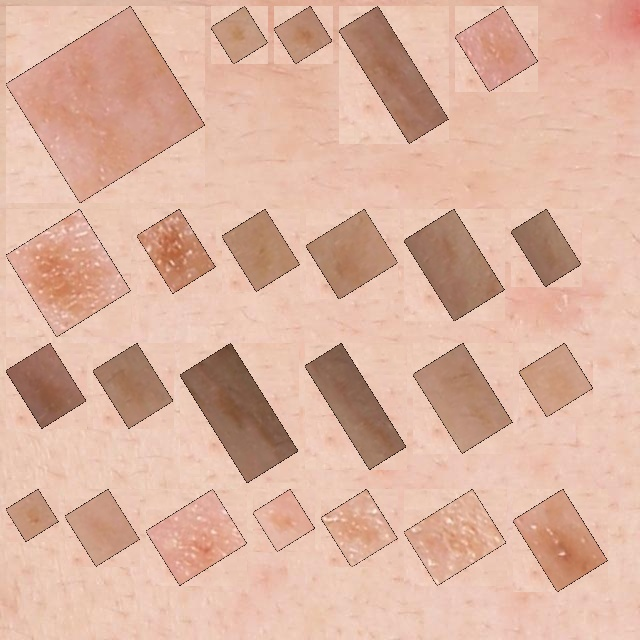melasma: (17, 17, 194, 192), (191, 354, 287, 471), (17, 220, 120, 325), (350, 17, 437, 132), (316, 354, 395, 458), (415, 220, 493, 310), (424, 354, 501, 442), (415, 500, 495, 574), (157, 500, 236, 574), (524, 500, 597, 580), (317, 220, 387, 288), (466, 17, 527, 80), (17, 354, 75, 417), (104, 354, 162, 417), (148, 220, 204, 282), (233, 220, 289, 280), (332, 500, 387, 556), (76, 500, 128, 555), (530, 354, 582, 406), (522, 220, 570, 275), (264, 500, 304, 540), (285, 17, 321, 53), (222, 17, 257, 53), (17, 500, 47, 530)
